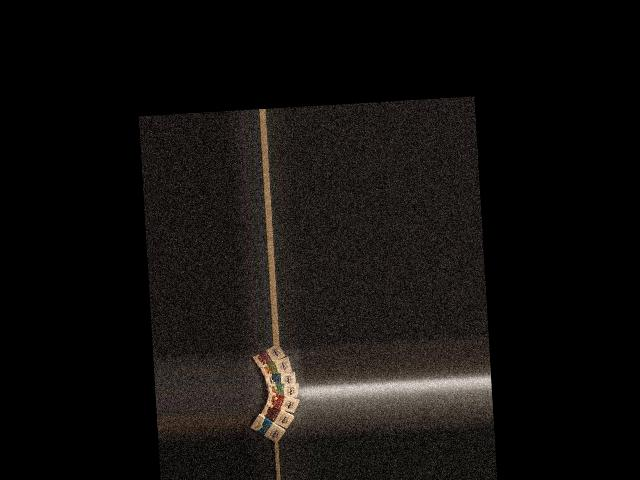chocolate: (247, 412, 287, 442)
